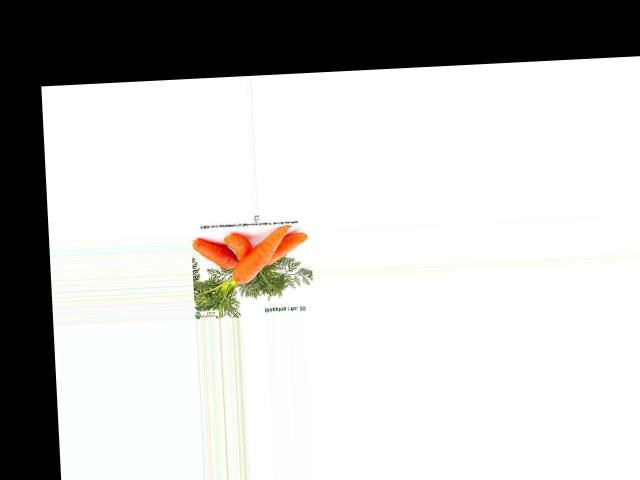carrot: (192, 235, 239, 275)
